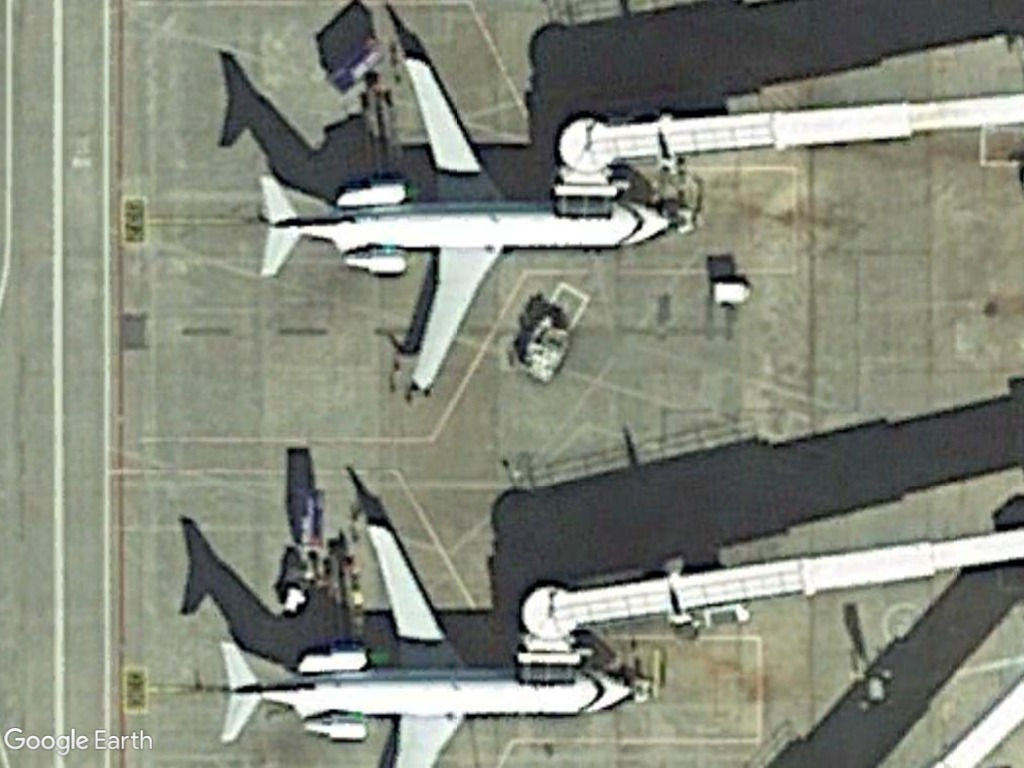chartered: (247, 50, 683, 397)
